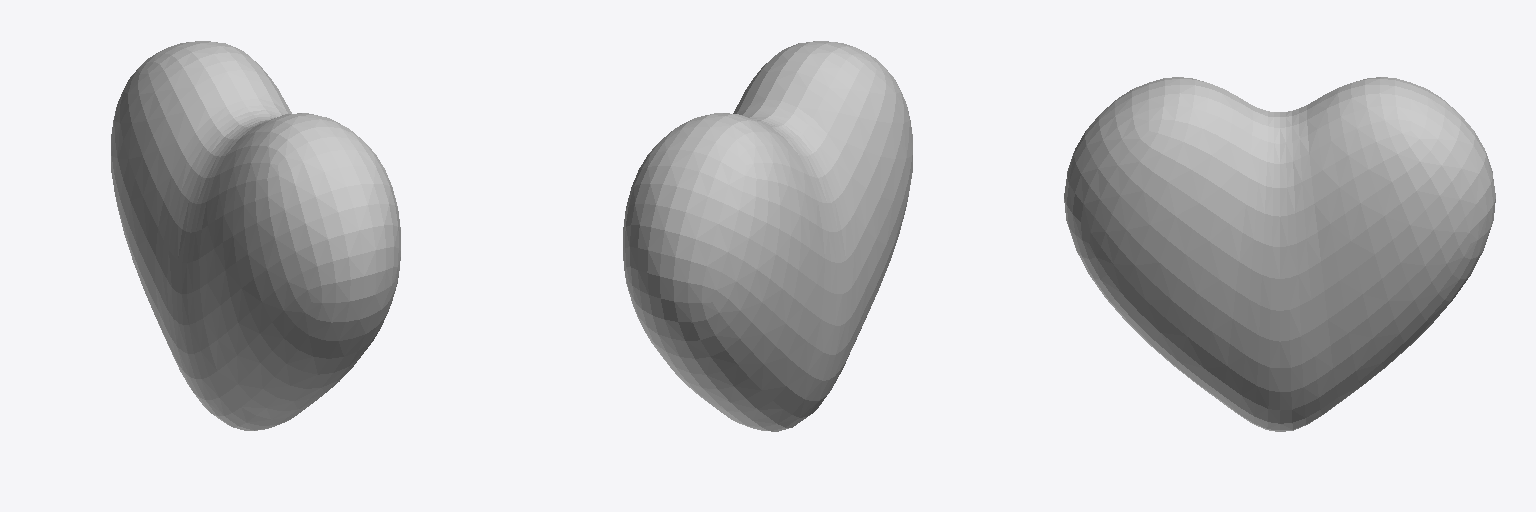
Rendered from heartPRUEBA.obj.
3 renders of one model, left to right at view 1: azimuth 30°, elevation 25°; view 2: azimuth 150°, elevation 25°; view 3: azimuth 270°, elevation 25°, orthographic.
Parts seen in each view (by area): view 1: Heart_; view 2: Heart_; view 3: Heart_.
Part boxes in pixels (x1,y1,x2,y2): Heart_: (111,41,400,430); Heart_: (623,41,912,431); Heart_: (1064,77,1495,431).
Size of the model in its own units: 0.9184 by 1.89 by 2.17.